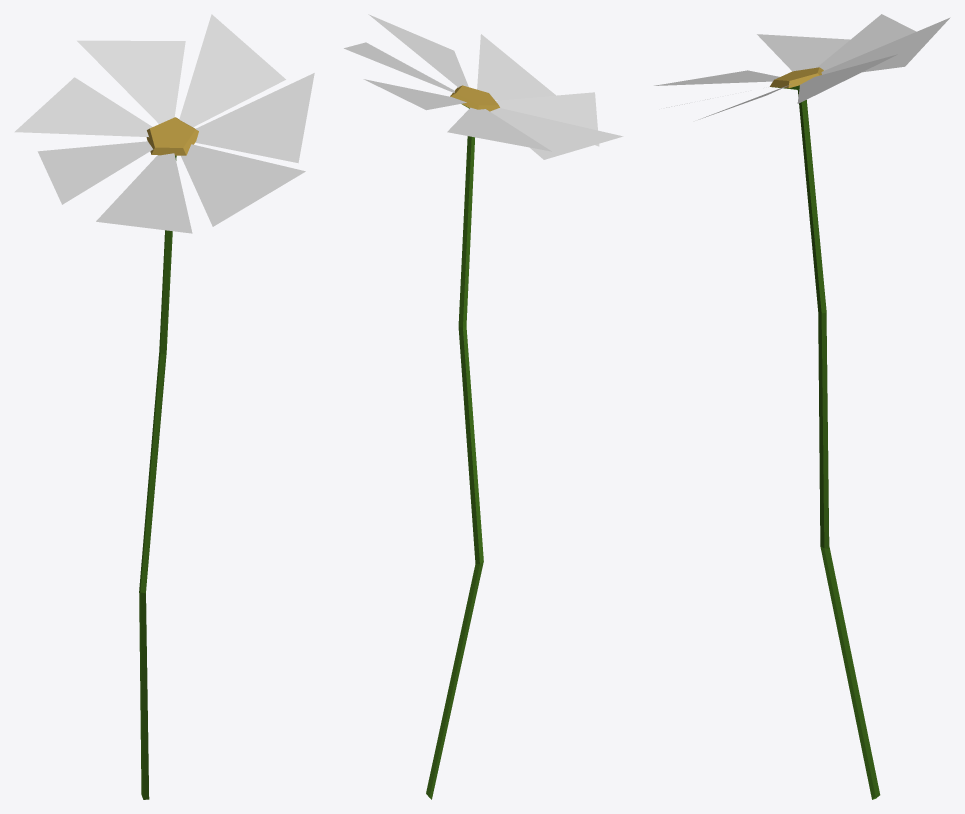
Rendered from white low poly glower.fbx.
3 renders of one model, left to right at view 1: azimuth 30°, elevation 25°; view 2: azimuth 150°, elevation 25°; view 3: azimuth 270°, elevation 25°, orthographic. The views are drawn at different scales.
Parts seen in each view (by area): view 1: Circle.001, Circle.004; view 2: Circle.001, Circle.004; view 3: Circle.001, Circle.004.
Boxes of the visible parts, x1=… form: Circle.001: x1=14, y1=14, x2=314, y2=233; Circle.004: x1=139, y1=117, x2=198, y2=799; Circle.001: x1=344, y1=14, x2=623, y2=159; Circle.004: x1=426, y1=85, x2=499, y2=799; Circle.001: x1=654, y1=14, x2=950, y2=119; Circle.004: x1=770, y1=67, x2=880, y2=799.
Bounding box in the file's own units: 19.21 × 54.1 × 18.67.
